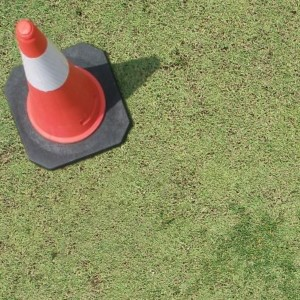traffic cone: (3, 18, 133, 169)
